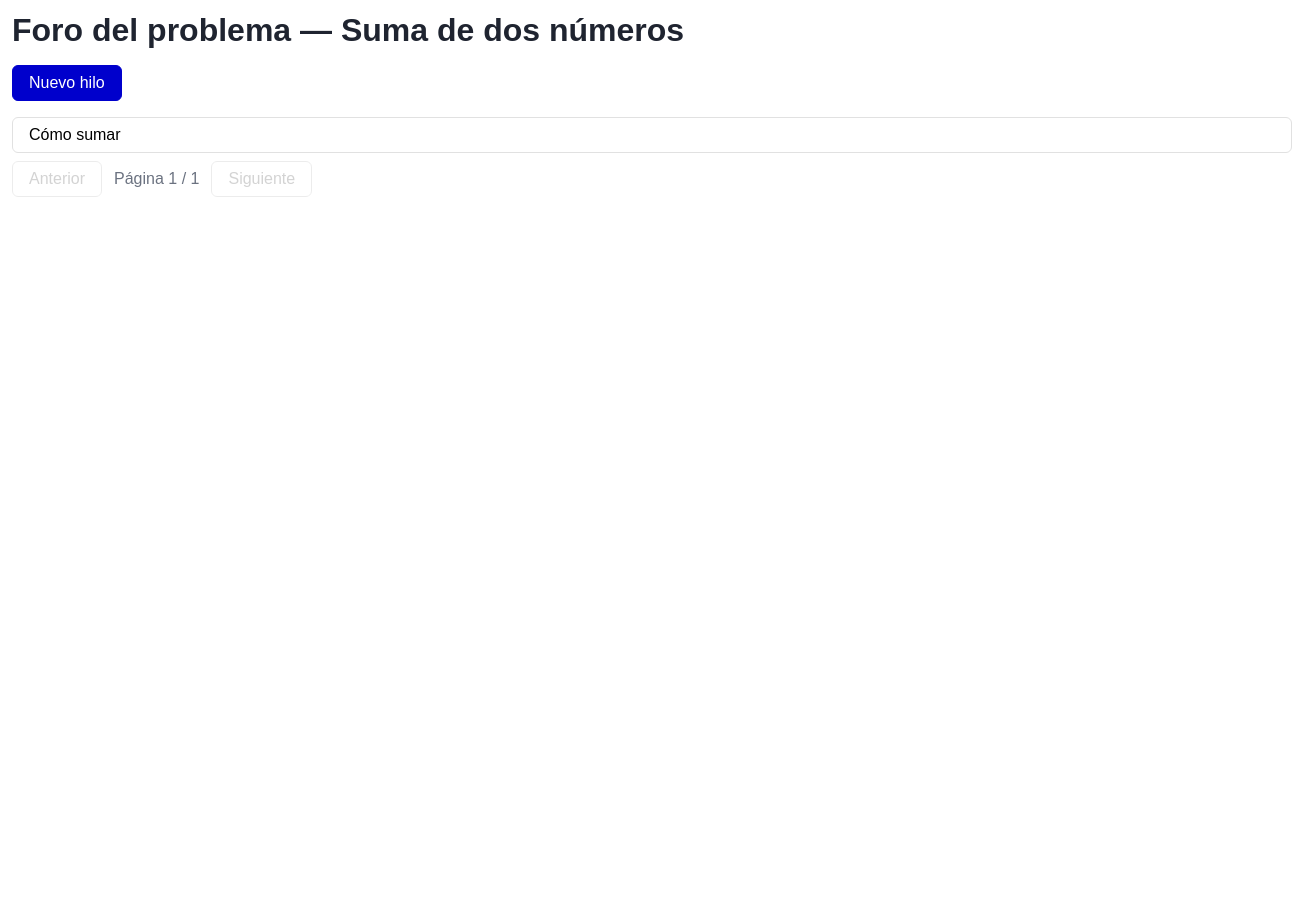
Test: ThreadDetail — nested reply tree › shows a '+ N more' button when a post has more than 3 direct children
Check: the element with test id "forum-page" is shown, box top-left (12, 12), bottom-right (1292, 197)
Click the button with test id "thread-2": {"x": 75, "y": 134} top-left (12, 117), bottom-right (1292, 153)
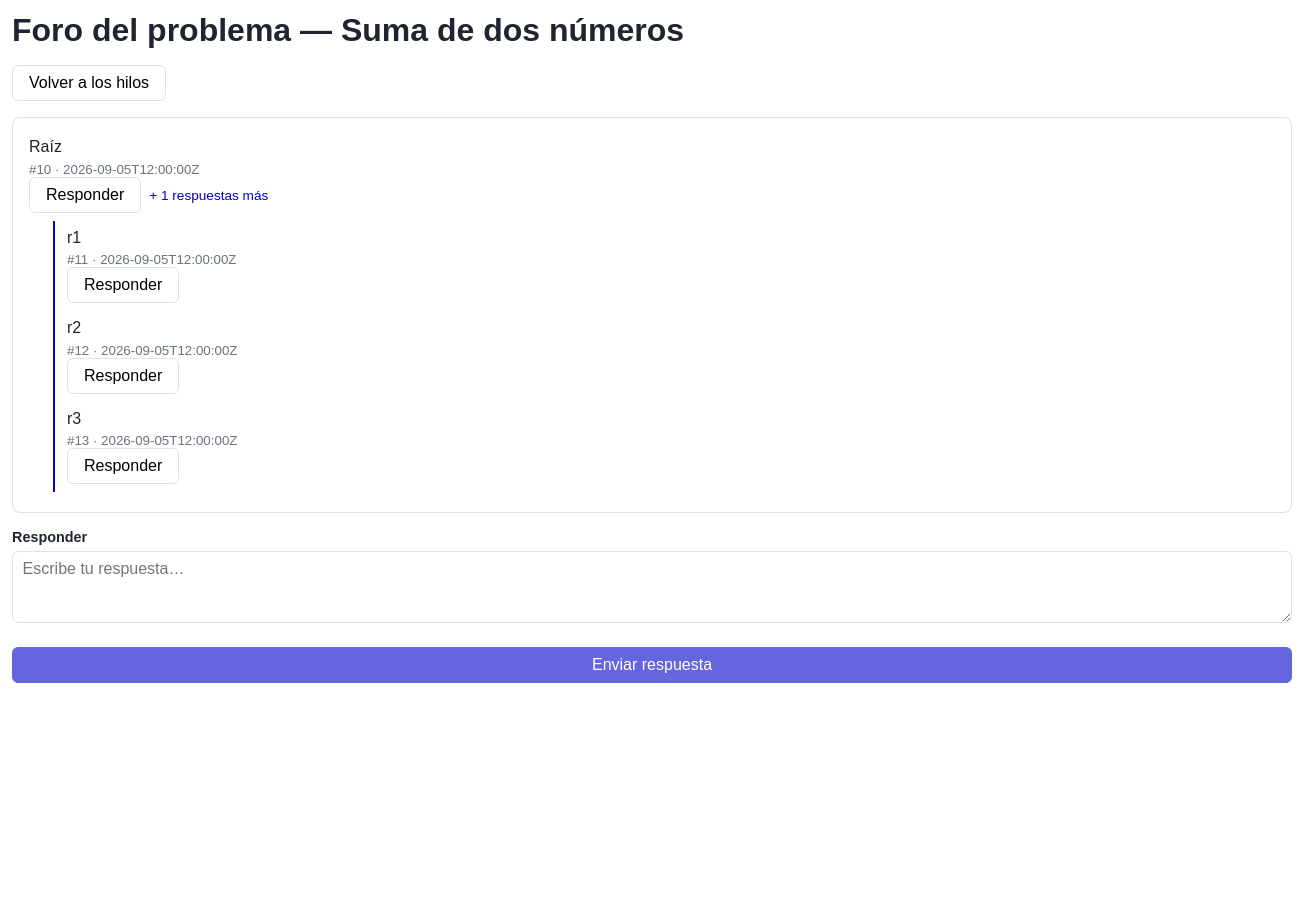
Check: the element with test id "thread-detail" is shown
Check: the button with test id "show-more-10" shows "+ 1", box top-left (141, 184), bottom-right (276, 207)
